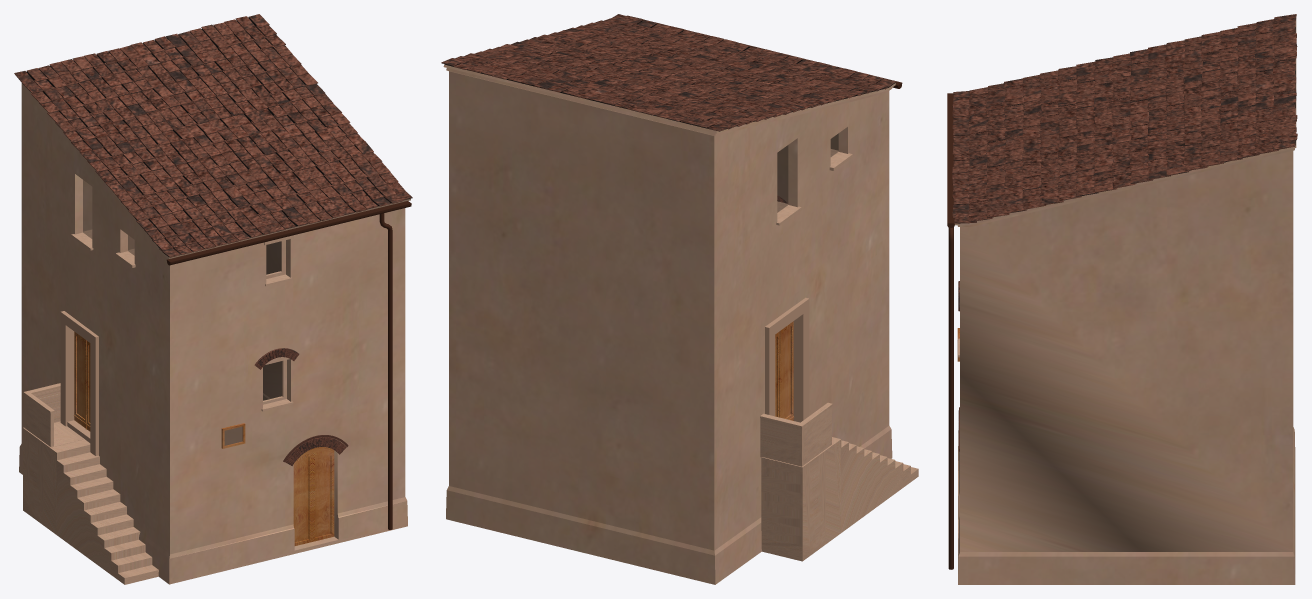
The model's file is single_cell.glb.
3 views of the same model, side by side, from view 1: azimuth 30°, elevation 25°; view 2: azimuth 150°, elevation 25°; view 3: azimuth 270°, elevation 25° (orthographic). The views are drawn at different scales.
Parts seen in each view (by area): view 1: Object_8, Object_10, Object_4, Object_7, Object_5, Object_3, Object_2, Object_6, Object_9; view 2: Object_8, Object_10, Object_4, Object_3, Object_7, Object_6; view 3: Object_8, Object_10, Object_5.
Part boxes in pixels (x1,y1,x2,y2): Object_8: [19, 83, 410, 584]; Object_10: [14, 14, 412, 257]; Object_4: [23, 421, 158, 584]; Object_7: [74, 331, 334, 545]; Object_5: [166, 201, 411, 529]; Object_3: [60, 311, 98, 455]; Object_2: [26, 17, 391, 256]; Object_6: [83, 180, 281, 445]; Object_9: [254, 348, 348, 465]; Object_8: [443, 64, 895, 584]; Object_10: [441, 14, 895, 131]; Object_4: [761, 437, 918, 561]; Object_3: [765, 297, 809, 422]; Object_7: [775, 321, 794, 420]; Object_6: [777, 134, 838, 212]; Object_8: [955, 19, 1296, 584]; Object_10: [952, 14, 1297, 223]; Object_5: [947, 93, 954, 569].
Size of the model in its own units: 107 by 147 by 106.
Materials: 6 (3 with a texture image).
